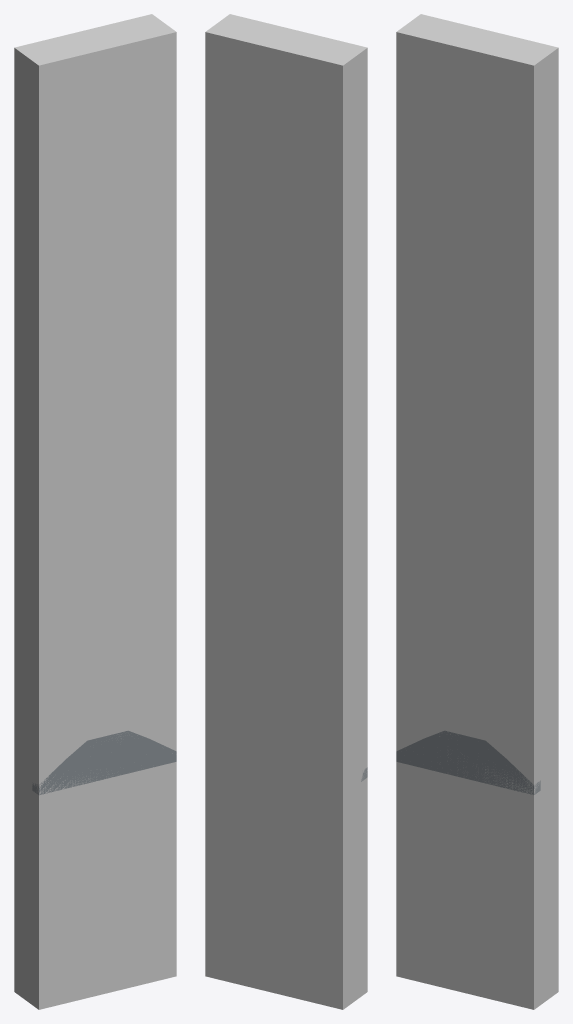
File: FMS_Tool_Pitchfork.fbx
3 views of the same model, side by side, from view 1: azimuth 30°, elevation 25°; view 2: azimuth 150°, elevation 25°; view 3: azimuth 330°, elevation 25° (orthographic).
Visible parts, largest first — view 1: FMS_Tool_Pitchfork_Col, FMS_Tool_Pitchfork_LOD0; view 2: FMS_Tool_Pitchfork_Col; view 3: FMS_Tool_Pitchfork_Col, FMS_Tool_Pitchfork_LOD0.
Part boxes in pixels (x1,y1,x2,y2): FMS_Tool_Pitchfork_Col: [14, 14, 176, 1009]; FMS_Tool_Pitchfork_LOD0: [32, 730, 176, 795]; FMS_Tool_Pitchfork_Col: [205, 14, 367, 1009]; FMS_Tool_Pitchfork_Col: [396, 14, 558, 1009]; FMS_Tool_Pitchfork_LOD0: [396, 730, 540, 794].
Size of what is drawn, in the model's own units: 0.168 by 1.1 by 0.052.
1 material, 1 textured.
